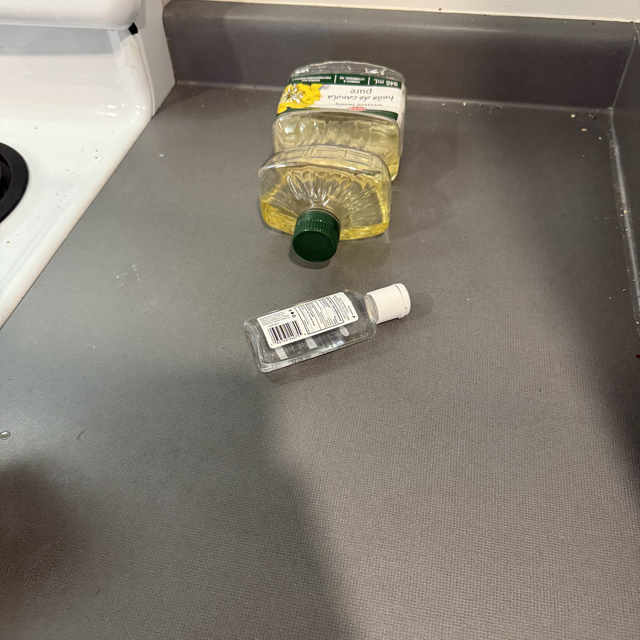Canola Oil: (227, 52, 411, 260)
Sanitizer: (216, 269, 478, 388)
